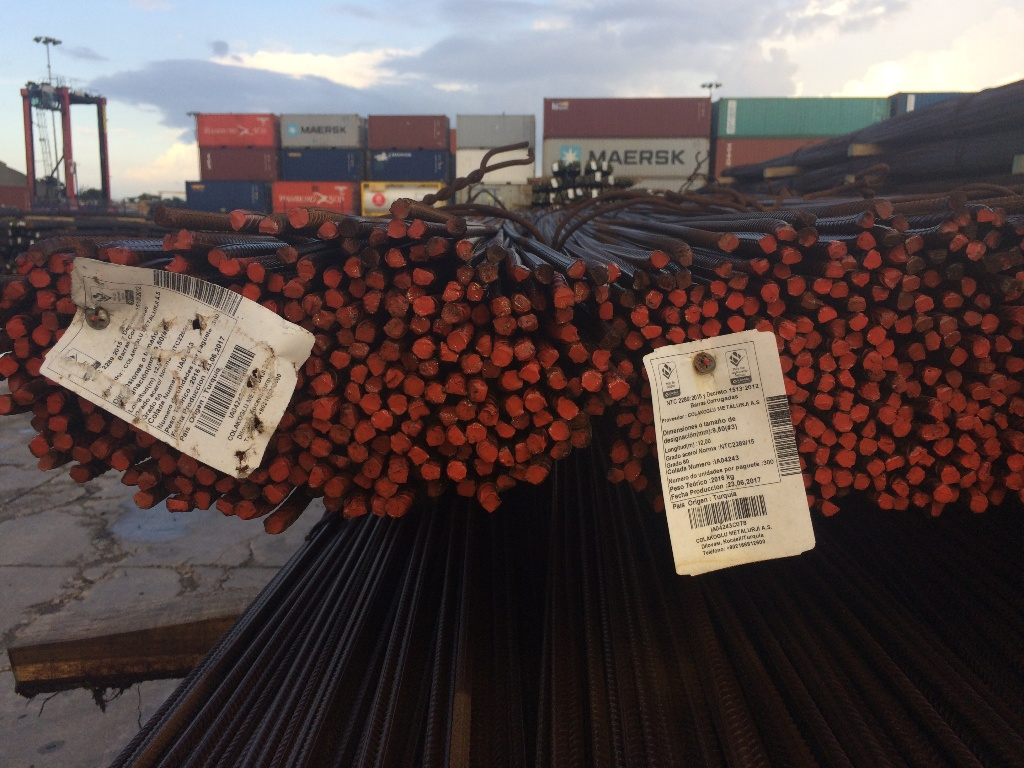dipstick: (163, 255, 189, 274), (386, 296, 408, 318), (343, 497, 367, 517), (312, 374, 334, 395), (384, 317, 405, 339), (6, 316, 25, 340), (336, 307, 357, 328), (445, 375, 466, 396), (581, 371, 602, 392), (344, 257, 366, 277), (390, 198, 410, 220), (404, 376, 424, 398), (557, 397, 577, 419), (312, 311, 335, 330), (467, 379, 486, 402), (372, 434, 392, 455), (154, 206, 174, 227), (443, 303, 463, 324), (533, 263, 553, 284), (591, 349, 611, 370), (553, 287, 574, 307), (805, 417, 825, 438), (75, 239, 97, 258), (316, 220, 338, 239), (384, 248, 406, 267), (362, 247, 381, 269), (493, 317, 516, 335), (348, 443, 368, 463), (372, 410, 392, 430), (283, 302, 303, 322), (439, 343, 459, 363), (447, 461, 467, 481), (515, 342, 535, 362), (520, 363, 540, 383), (178, 455, 197, 476), (313, 399, 332, 420), (361, 394, 382, 413), (376, 479, 397, 498), (288, 209, 309, 228), (442, 281, 461, 302), (492, 295, 511, 316), (584, 397, 605, 416), (472, 304, 490, 326), (933, 438, 955, 456), (365, 292, 382, 315), (270, 462, 289, 482), (324, 477, 343, 497), (311, 438, 331, 457), (330, 425, 350, 444), (355, 424, 375, 443), (283, 279, 303, 298), (301, 296, 321, 315), (427, 236, 446, 256), (456, 240, 475, 260), (462, 355, 482, 374), (494, 346, 513, 366), (568, 344, 588, 363), (555, 305, 574, 325), (702, 318, 722, 337), (5, 282, 26, 300), (240, 483, 261, 501), (297, 259, 315, 280), (414, 298, 435, 316), (427, 384, 445, 405), (466, 424, 487, 442), (550, 442, 571, 460), (848, 313, 869, 331), (16, 253, 32, 276), (389, 465, 408, 484), (108, 246, 127, 265), (323, 269, 342, 288), (356, 324, 375, 343), (381, 342, 400, 361), (387, 395, 406, 414), (478, 406, 497, 425), (549, 422, 568, 441), (512, 294, 531, 313), (561, 324, 580, 343), (719, 233, 738, 252), (863, 250, 882, 269), (37, 291, 55, 311), (1, 357, 19, 377), (110, 418, 128, 438), (111, 451, 129, 471), (264, 485, 284, 503), (392, 433, 410, 453), (408, 219, 426, 239), (414, 340, 434, 358), (426, 426, 444, 446), (456, 401, 476, 419), (502, 372, 522, 390), (478, 264, 498, 282), (486, 245, 504, 265), (541, 350, 559, 370), (798, 228, 818, 246), (833, 414, 853, 432), (235, 501, 256, 518), (386, 500, 407, 517), (295, 425, 312, 446), (413, 267, 434, 284), (449, 331, 466, 352), (264, 517, 286, 533), (477, 335, 493, 357), (29, 437, 47, 456), (53, 433, 72, 451), (73, 445, 91, 464), (87, 414, 105, 433), (134, 491, 153, 509), (197, 467, 216, 485), (410, 446, 428, 465), (348, 279, 366, 298), (369, 229, 387, 248), (483, 494, 502, 512), (548, 372, 567, 390), (567, 260, 585, 279), (787, 276, 805, 295), (761, 283, 779, 302), (730, 272, 749, 290), (941, 467, 960, 485), (966, 241, 985, 259), (609, 381, 627, 400), (30, 271, 50, 288), (56, 296, 76, 313), (277, 246, 297, 263), (410, 317, 430, 334), (449, 426, 466, 446), (525, 394, 545, 411), (766, 300, 786, 317), (778, 319, 795, 339), (796, 211, 816, 228), (884, 268, 901, 288), (861, 383, 881, 400), (893, 420, 913, 437), (176, 228, 192, 249), (324, 291, 345, 307), (447, 217, 468, 233), (527, 467, 548, 483), (801, 294, 822, 310), (813, 394, 834, 410), (299, 452, 317, 470), (339, 218, 357, 236), (387, 220, 405, 238), (726, 292, 744, 310), (829, 241, 847, 259), (883, 228, 901, 246), (817, 374, 835, 392), (838, 352, 856, 370), (838, 432, 856, 450), (907, 467, 925, 485), (606, 467, 624, 485), (91, 441, 108, 460), (290, 466, 307, 485), (350, 365, 367, 384), (207, 250, 226, 267), (340, 237, 359, 254), (529, 434, 546, 453), (571, 430, 590, 447), (825, 262, 844, 279), (868, 326, 885, 345), (836, 391, 853, 410), (834, 470, 853, 487), (933, 486, 952, 503), (1005, 357, 1024, 374), (982, 314, 999, 333), (947, 193, 966, 210), (1001, 278, 1018, 297), (330, 352, 350, 368), (230, 210, 246, 230), (368, 355, 384, 375), (410, 405, 430, 421), (496, 476, 516, 492), (632, 306, 648, 326), (776, 226, 796, 242), (726, 316, 746, 332), (754, 319, 774, 335), (836, 451, 856, 467), (499, 446, 514, 467), (633, 270, 648, 291), (677, 246, 692, 267), (887, 247, 908, 262), (341, 405, 354, 429), (599, 333, 621, 347), (40, 313, 58, 330), (138, 473, 156, 490), (175, 476, 192, 494), (220, 259, 238, 276), (337, 329, 354, 347), (394, 272, 411, 290), (409, 244, 427, 261), (480, 445, 498, 462), (483, 360, 500, 378), (572, 411, 589, 429), (591, 266, 608, 284), (625, 332, 642, 350), (857, 233, 875, 250), (876, 200, 893, 218), (819, 354, 836, 372), (863, 353, 880, 371), (860, 438, 877, 456), (893, 479, 910, 497), (915, 316, 933, 333), (915, 295, 933, 312), (924, 270, 942, 287), (922, 424, 940, 441), (364, 459, 380, 478), (49, 255, 65, 274), (474, 459, 493, 475), (507, 396, 523, 415), (795, 317, 814, 333), (818, 307, 837, 323), (847, 296, 866, 312), (897, 292, 913, 311), (906, 256, 925, 272), (788, 406, 804, 425), (885, 456, 904, 472), (928, 249, 947, 265), (946, 262, 962, 281), (943, 293, 962, 309), (623, 462, 639, 481), (371, 496, 386, 516), (278, 412, 293, 432), (258, 218, 278, 233), (312, 335, 327, 355), (402, 421, 422, 436), (518, 315, 538, 330), (676, 270, 691, 290), (974, 338, 989, 358), (166, 498, 189, 511), (216, 476, 233, 493), (248, 263, 265, 280), (702, 299, 719, 316), (759, 236, 776, 253), (774, 262, 791, 279), (892, 214, 909, 231), (831, 338, 848, 355), (851, 404, 868, 421), (879, 407, 896, 424), (878, 437, 895, 454), (908, 344, 925, 361), (907, 448, 924, 465), (959, 436, 976, 453), (994, 251, 1011, 268), (216, 496, 232, 514), (306, 357, 322, 375), (386, 370, 402, 388), (513, 265, 529, 283), (646, 291, 662, 309), (668, 327, 686, 343), (665, 307, 681, 325), (669, 290, 687, 306), (751, 258, 769, 274), (858, 211, 874, 229), (839, 370, 855, 388), (867, 460, 885, 476), (939, 316, 957, 332), (951, 347, 967, 365), (946, 370, 962, 388), (988, 375, 1006, 391), (979, 357, 995, 375), (995, 335, 1011, 353), (985, 230, 1001, 248), (568, 375, 581, 397), (575, 281, 588, 303), (32, 329, 51, 344), (70, 467, 89, 482), (421, 464, 440, 479), (350, 343, 369, 358), (420, 361, 439, 376), (467, 283, 482, 302), (651, 252, 670, 267), (690, 284, 705, 303), (906, 235, 921, 254), (961, 278, 976, 297), (1008, 454, 1023, 473), (963, 311, 982, 326), (618, 359, 633, 378), (14, 339, 28, 359), (48, 394, 62, 414), (276, 435, 290, 455), (322, 496, 342, 510), (831, 318, 845, 338), (993, 206, 1006, 227), (365, 377, 382, 393), (243, 284, 259, 301), (441, 408, 457, 425), (457, 481, 474, 497), (710, 280, 726, 297), (789, 336, 805, 353), (804, 333, 821, 349), (814, 279, 831, 295), (831, 282, 848, 298), (880, 311, 896, 328), (902, 275, 919, 291), (796, 368, 813, 384), (815, 468, 832, 484), (924, 368, 940, 385), (949, 235, 966, 251), (976, 207, 993, 223), (268, 275, 283, 293), (458, 265, 473, 283), (619, 289, 634, 307), (743, 296, 758, 314), (851, 271, 869, 286), (821, 501, 839, 516), (925, 332, 940, 350), (637, 406, 652, 424), (612, 445, 627, 463), (13, 392, 32, 406), (309, 468, 323, 487), (346, 385, 360, 404), (533, 412, 552, 426), (782, 251, 801, 265), (816, 445, 830, 464), (26, 357, 39, 377), (249, 469, 269, 482), (641, 325, 661, 338), (952, 392, 965, 412), (121, 469, 137, 485), (159, 456, 175, 472), (716, 262, 732, 278), (847, 332, 863, 348), (878, 494, 894, 510), (957, 415, 973, 431), (960, 471, 976, 487), (971, 497, 987, 513), (658, 275, 675, 290), (685, 306, 700, 323), (871, 285, 888, 300), (861, 421, 876, 438), (906, 380, 921, 397), (936, 385, 951, 402), (985, 438, 1000, 455), (972, 385, 989, 400), (989, 392, 1006, 407), (953, 210, 970, 225), (49, 418, 67, 432), (516, 442, 528, 463), (594, 285, 608, 303), (779, 354, 793, 372), (782, 376, 796, 394), (798, 439, 816, 453), (939, 221, 957, 235), (32, 248, 45, 267), (137, 433, 156, 446), (607, 263, 620, 282), (930, 400, 943, 419), (961, 455, 980, 468), (402, 354, 417, 370), (428, 480, 443, 496), (513, 413, 528, 429), (598, 303, 613, 319), (878, 340, 894, 355), (899, 406, 914, 422), (942, 334, 962, 346), (632, 442, 647, 458), (497, 424, 514, 438), (531, 294, 545, 311), (897, 316, 911, 333), (892, 375, 906, 392), (628, 422, 642, 439), (312, 420, 330, 433), (353, 476, 371, 489), (57, 277, 70, 295), (407, 286, 425, 299), (791, 389, 809, 402), (996, 412, 1009, 430), (979, 462, 991, 481), (433, 320, 448, 335), (687, 324, 702, 339), (1006, 474, 1021, 489), (33, 402, 47, 418), (38, 456, 54, 470), (296, 401, 312, 415), (796, 353, 812, 367), (881, 357, 897, 371), (938, 421, 952, 437), (621, 393, 637, 407), (196, 492, 209, 509), (614, 319, 627, 336), (616, 413, 633, 426), (163, 234, 175, 252), (643, 425, 655, 443), (32, 418, 47, 432), (457, 446, 472, 460), (512, 466, 526, 481), (821, 430, 835, 445), (821, 484, 835, 499), (895, 497, 910, 511), (930, 503, 945, 517), (975, 294, 990, 308), (150, 445, 166, 458), (887, 394, 903, 407), (332, 456, 349, 468), (973, 416, 983, 436), (1, 398, 12, 416), (899, 362, 913, 376), (855, 474, 868, 489), (1007, 379, 1020, 394), (1008, 326, 1023, 339), (439, 445, 455, 457), (991, 490, 1003, 506), (8, 375, 19, 392), (635, 474, 646, 491), (983, 424, 996, 438), (967, 402, 980, 416), (844, 255, 856, 270), (874, 476, 886, 491), (653, 495, 663, 513), (913, 494, 926, 507), (1013, 437, 1024, 452), (801, 473, 812, 487), (870, 371, 884, 381), (979, 409, 991, 420), (924, 457, 935, 466)
